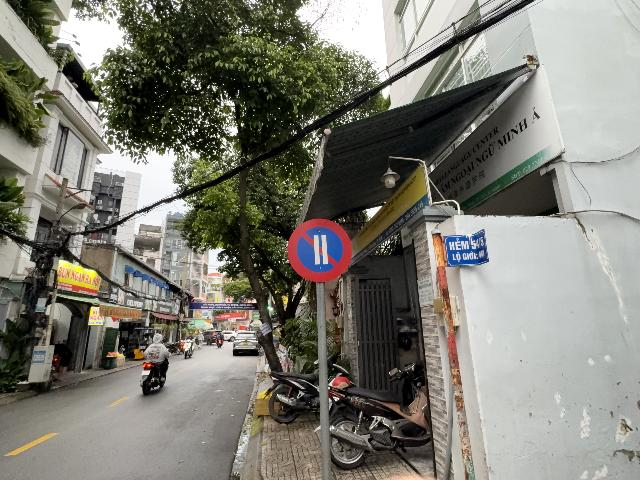cam-do-xe-ngay-chan: (287, 217, 353, 283)
